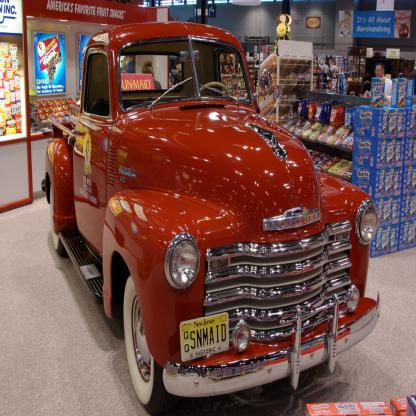Car: (41, 21, 382, 415)
Truck: (41, 16, 381, 415)
